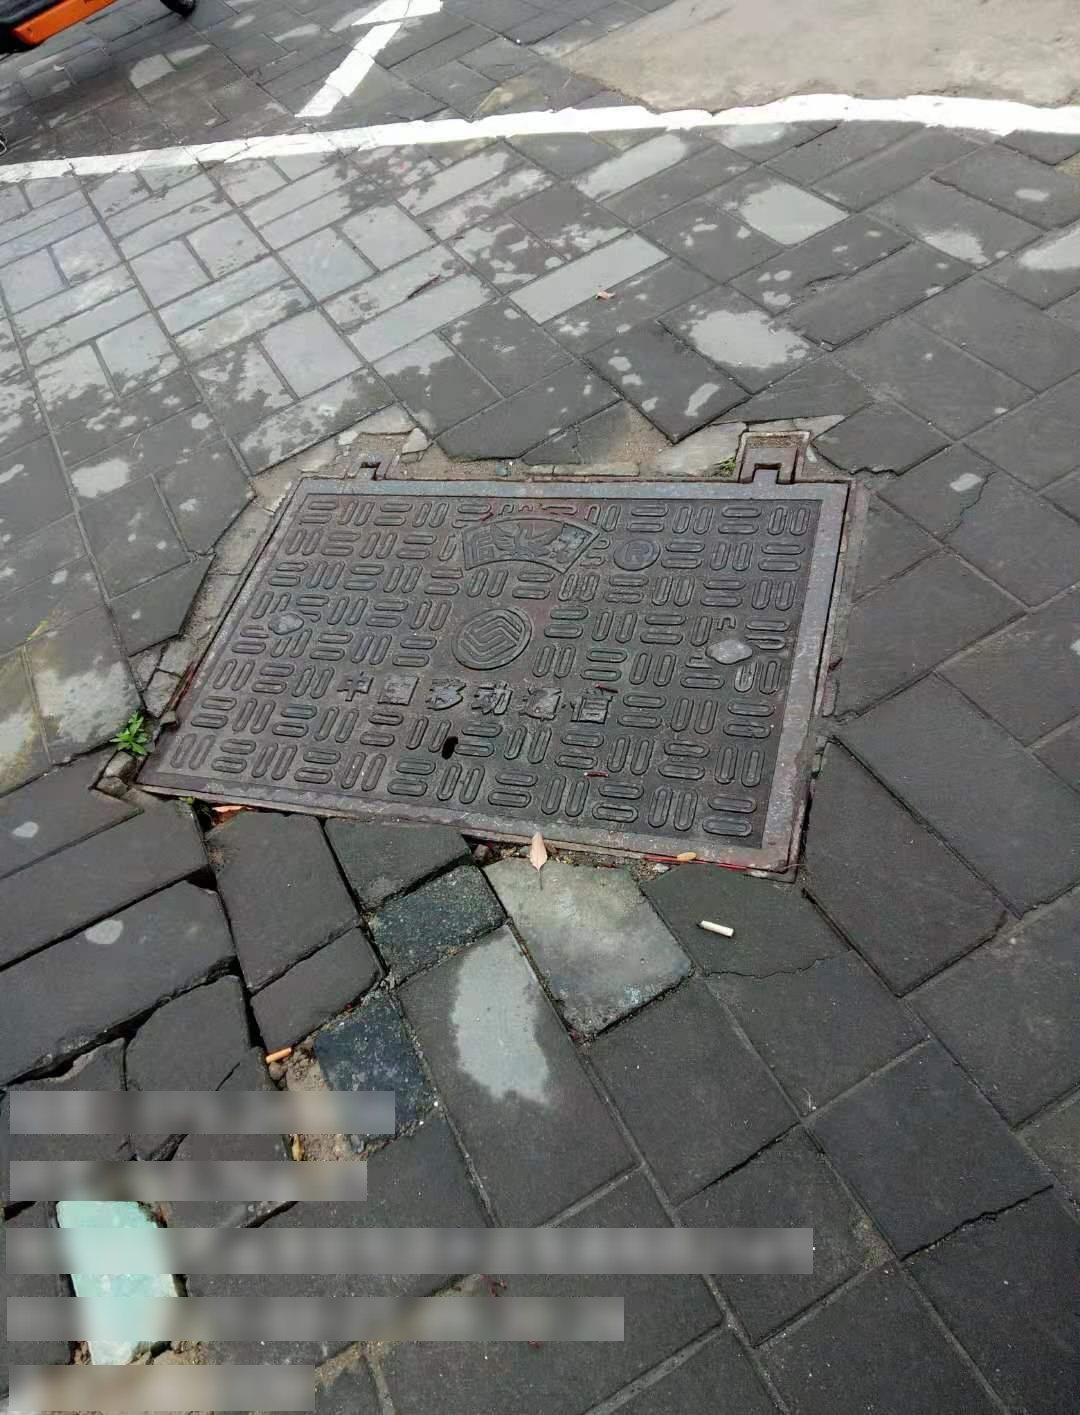good: (129, 439, 859, 882)
